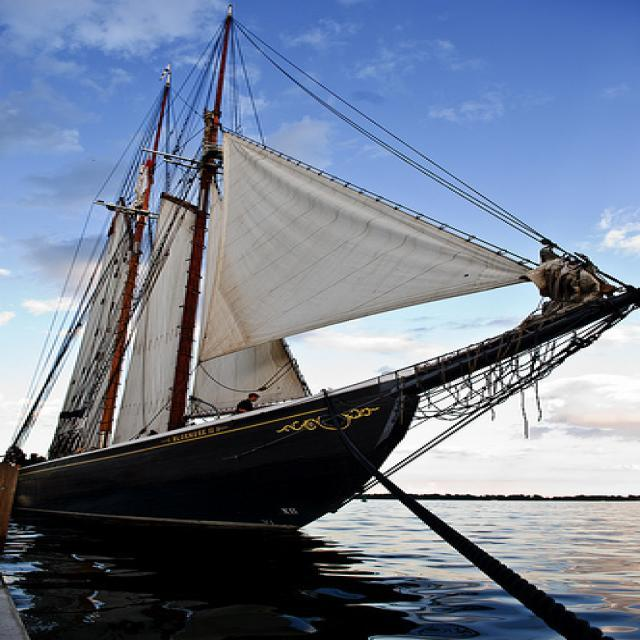Ship: (8, 7, 640, 532)
